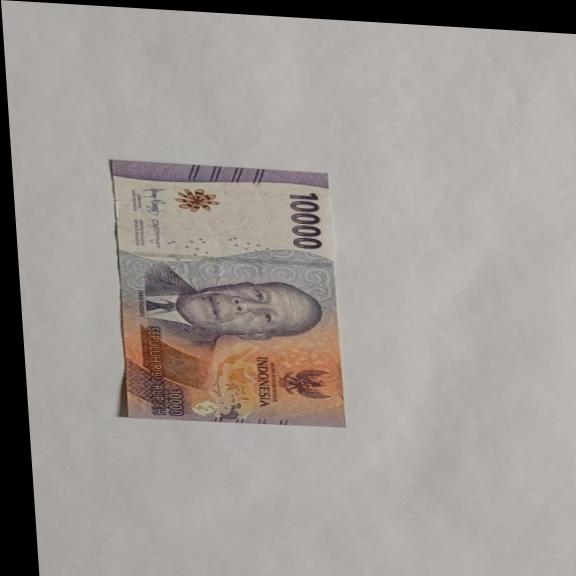Kertas: (106, 159, 349, 431), (286, 190, 325, 250)
